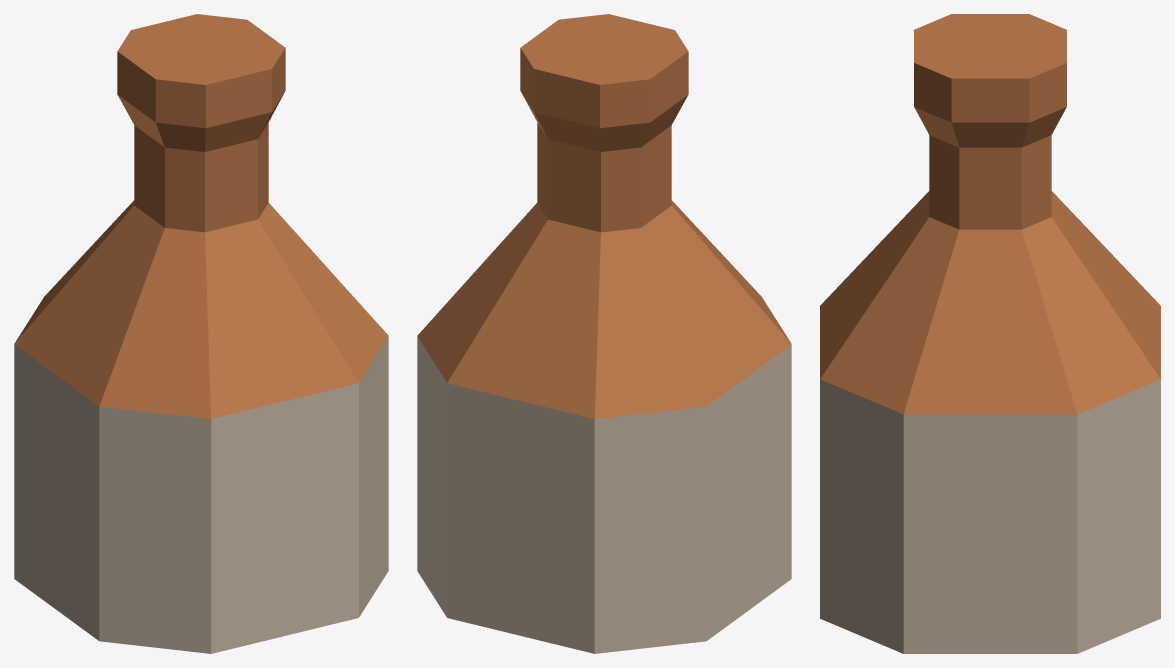
Rendered from bottleLarge.fbx.
The picture shows the model from 3 angles, left to right: view 1: azimuth 30°, elevation 25°; view 2: azimuth 150°, elevation 25°; view 3: azimuth 270°, elevation 25°; orthographic projection.
Parts seen in each view (by area): view 1: bottleLarge; view 2: bottleLarge; view 3: bottleLarge.
Boxes of the visible parts, x1=… form: bottleLarge: x1=14, y1=14, x2=388, y2=653; bottleLarge: x1=417, y1=14, x2=791, y2=653; bottleLarge: x1=820, y1=14, x2=1160, y2=653.
Bounding box in the file's own units: 2.45 × 4.25 × 2.45.
